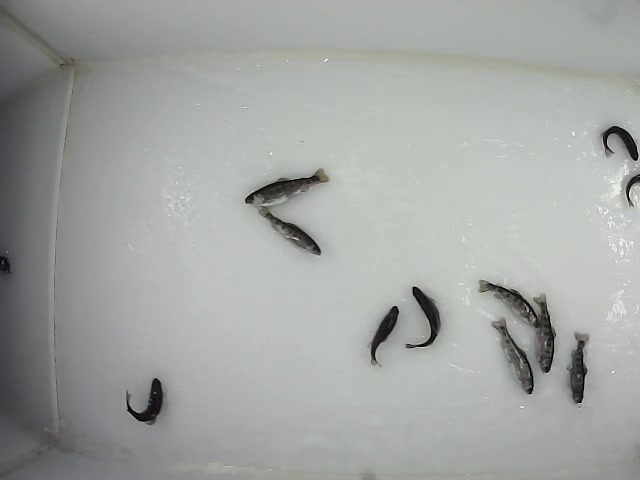fish: (243, 166, 334, 207), (489, 316, 535, 397), (259, 208, 322, 255), (403, 285, 442, 350), (366, 303, 400, 368), (123, 376, 164, 425), (564, 331, 591, 403), (599, 123, 639, 163)
